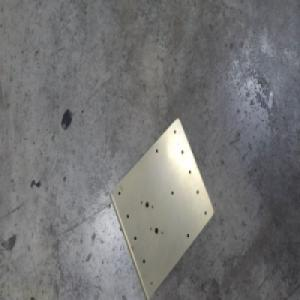MetalSheet: (107, 117, 214, 300)
